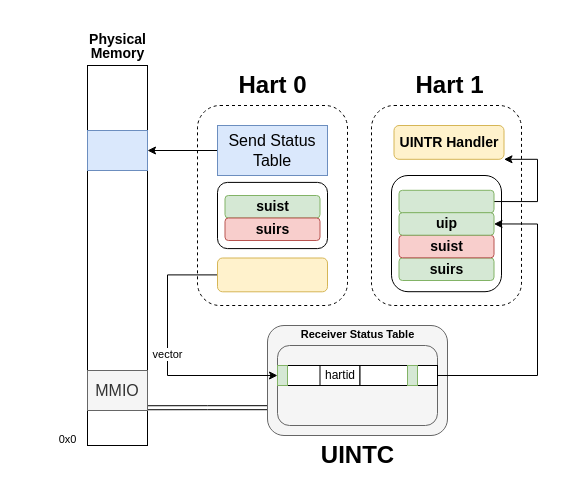
Some shapes in this 563 by 492 pixel diagram are drawn without their labels. The centre of each missing label's shape, as x and y in pixels:
Frame: [117,150]
pending: [398,375]
UIPI SEND: [272,274]
utvec: [446,201]
